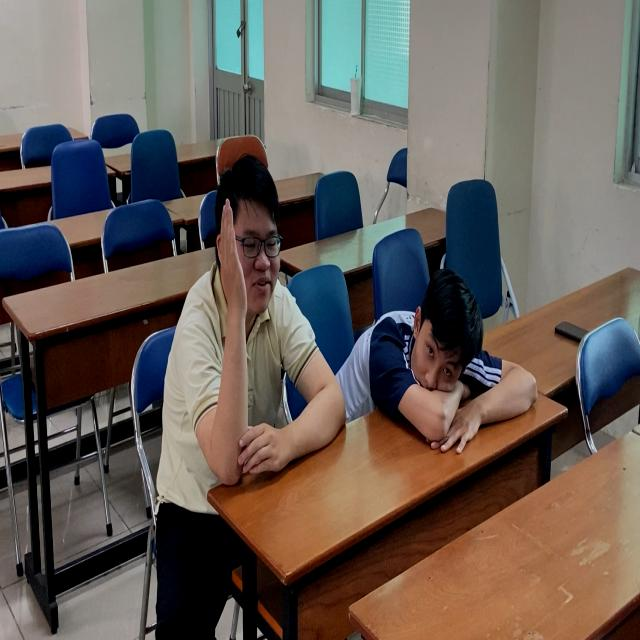raise_hand: (161, 152, 336, 500)
sleep: (349, 265, 539, 449)
